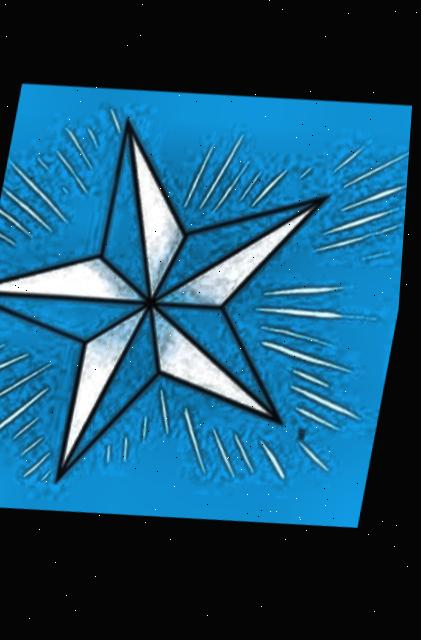La Estrella: (0, 63, 417, 554)
